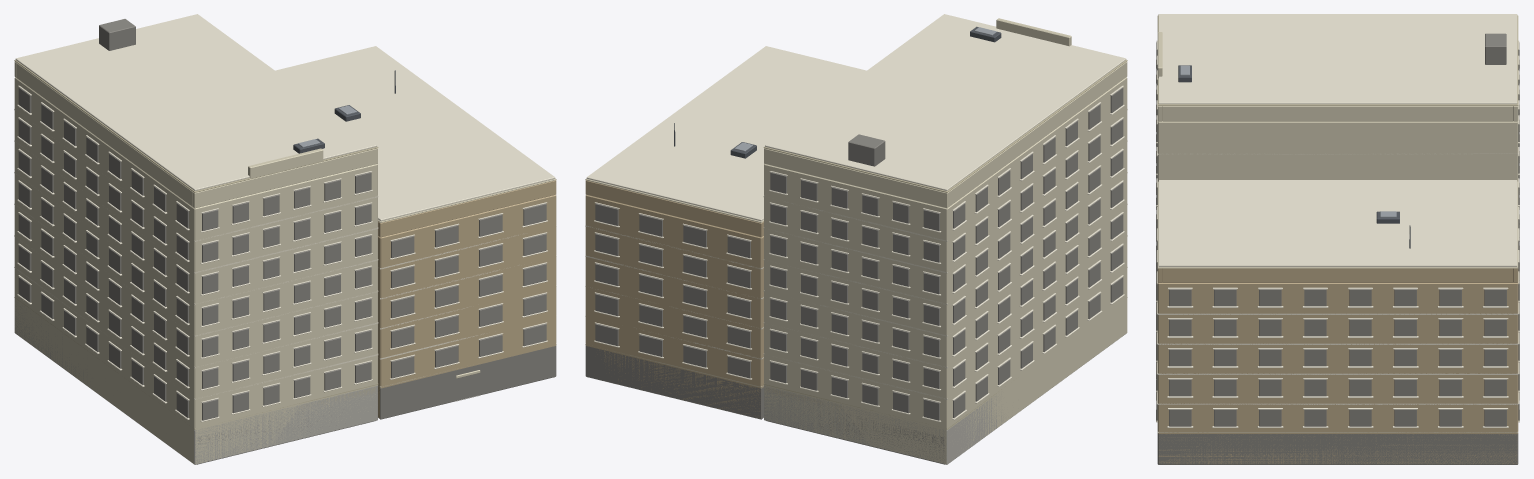
Rendered from VG_Bld_Downtown_11.fbx.
3 renders of one model, left to right at view 1: azimuth 30°, elevation 25°; view 2: azimuth 150°, elevation 25°; view 3: azimuth 270°, elevation 25°, orthographic.
Visible parts, largest first — view 1: VG_Bld_Downtown_11_Body; view 2: VG_Bld_Downtown_11_Body; view 3: VG_Bld_Downtown_11_Body.
Part boxes in pixels (left/top/right/bottom): VG_Bld_Downtown_11_Body: left=14, top=14, right=556, bottom=464; VG_Bld_Downtown_11_Body: left=585, top=14, right=1127, bottom=464; VG_Bld_Downtown_11_Body: left=1156, top=14, right=1519, bottom=464.
Size of the model in its own units: 43 by 32.94 by 37.
